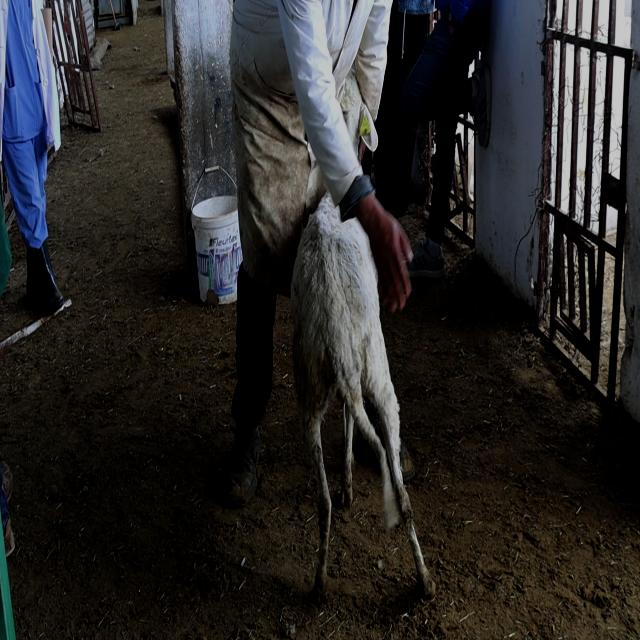Score_1: (291, 195, 435, 604)
